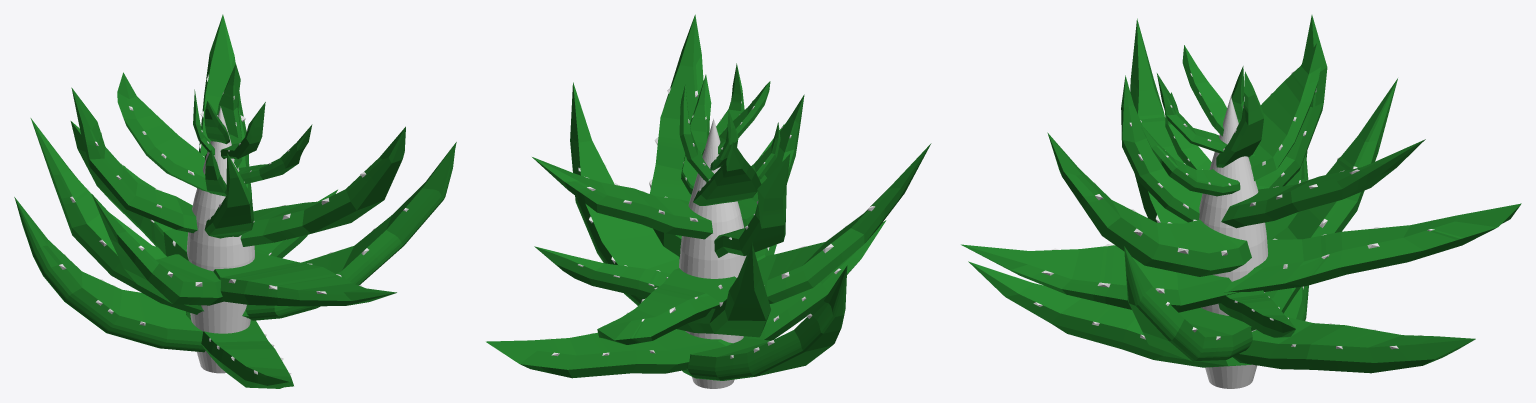
File: Herbe_1.fbx
3 views of the same model, side by side, from view 1: azimuth 30°, elevation 25°; view 2: azimuth 150°, elevation 25°; view 3: azimuth 270°, elevation 25° (orthographic). The views are drawn at different scales.
Parts seen in each view (by area): view 1: Savanna.026; view 2: Savanna.026; view 3: Savanna.026.
Part boxes in pixels (x1,y1,x2,y2): Savanna.026: [14, 14, 456, 388]; Savanna.026: [486, 14, 931, 388]; Savanna.026: [961, 15, 1521, 388].
Bounding box in the file's own units: 233 × 180 × 287.
